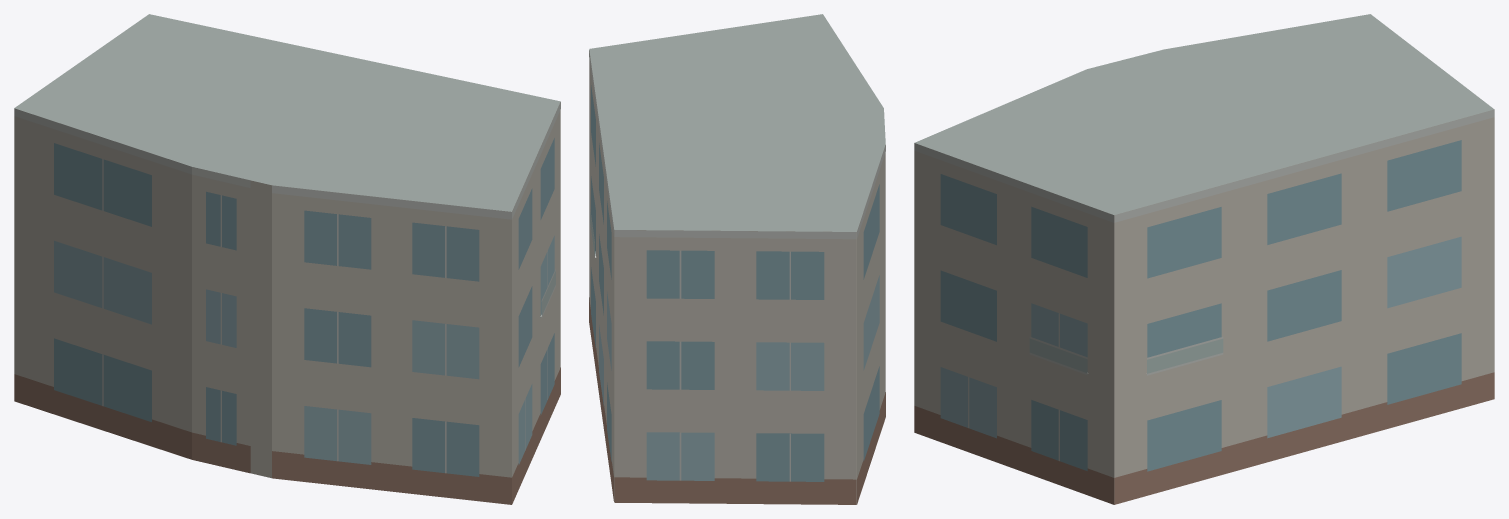
File: survey-upis-32486863.glb
3 renders of one model, left to right at view 1: azimuth 30°, elevation 25°; view 2: azimuth 150°, elevation 25°; view 3: azimuth 270°, elevation 25°, orthographic. The views are drawn at different scales.
Parts seen in each view (by area): view 1: survey-upis-32486863.tmp; view 2: survey-upis-32486863.tmp; view 3: survey-upis-32486863.tmp.
Boxes of the visible parts, bbox=[...] form: survey-upis-32486863.tmp: bbox=[14, 14, 560, 504]; survey-upis-32486863.tmp: bbox=[589, 14, 885, 504]; survey-upis-32486863.tmp: bbox=[914, 14, 1494, 504].
Bounding box in the file's own units: 13.64 × 9.15 × 16.62.
